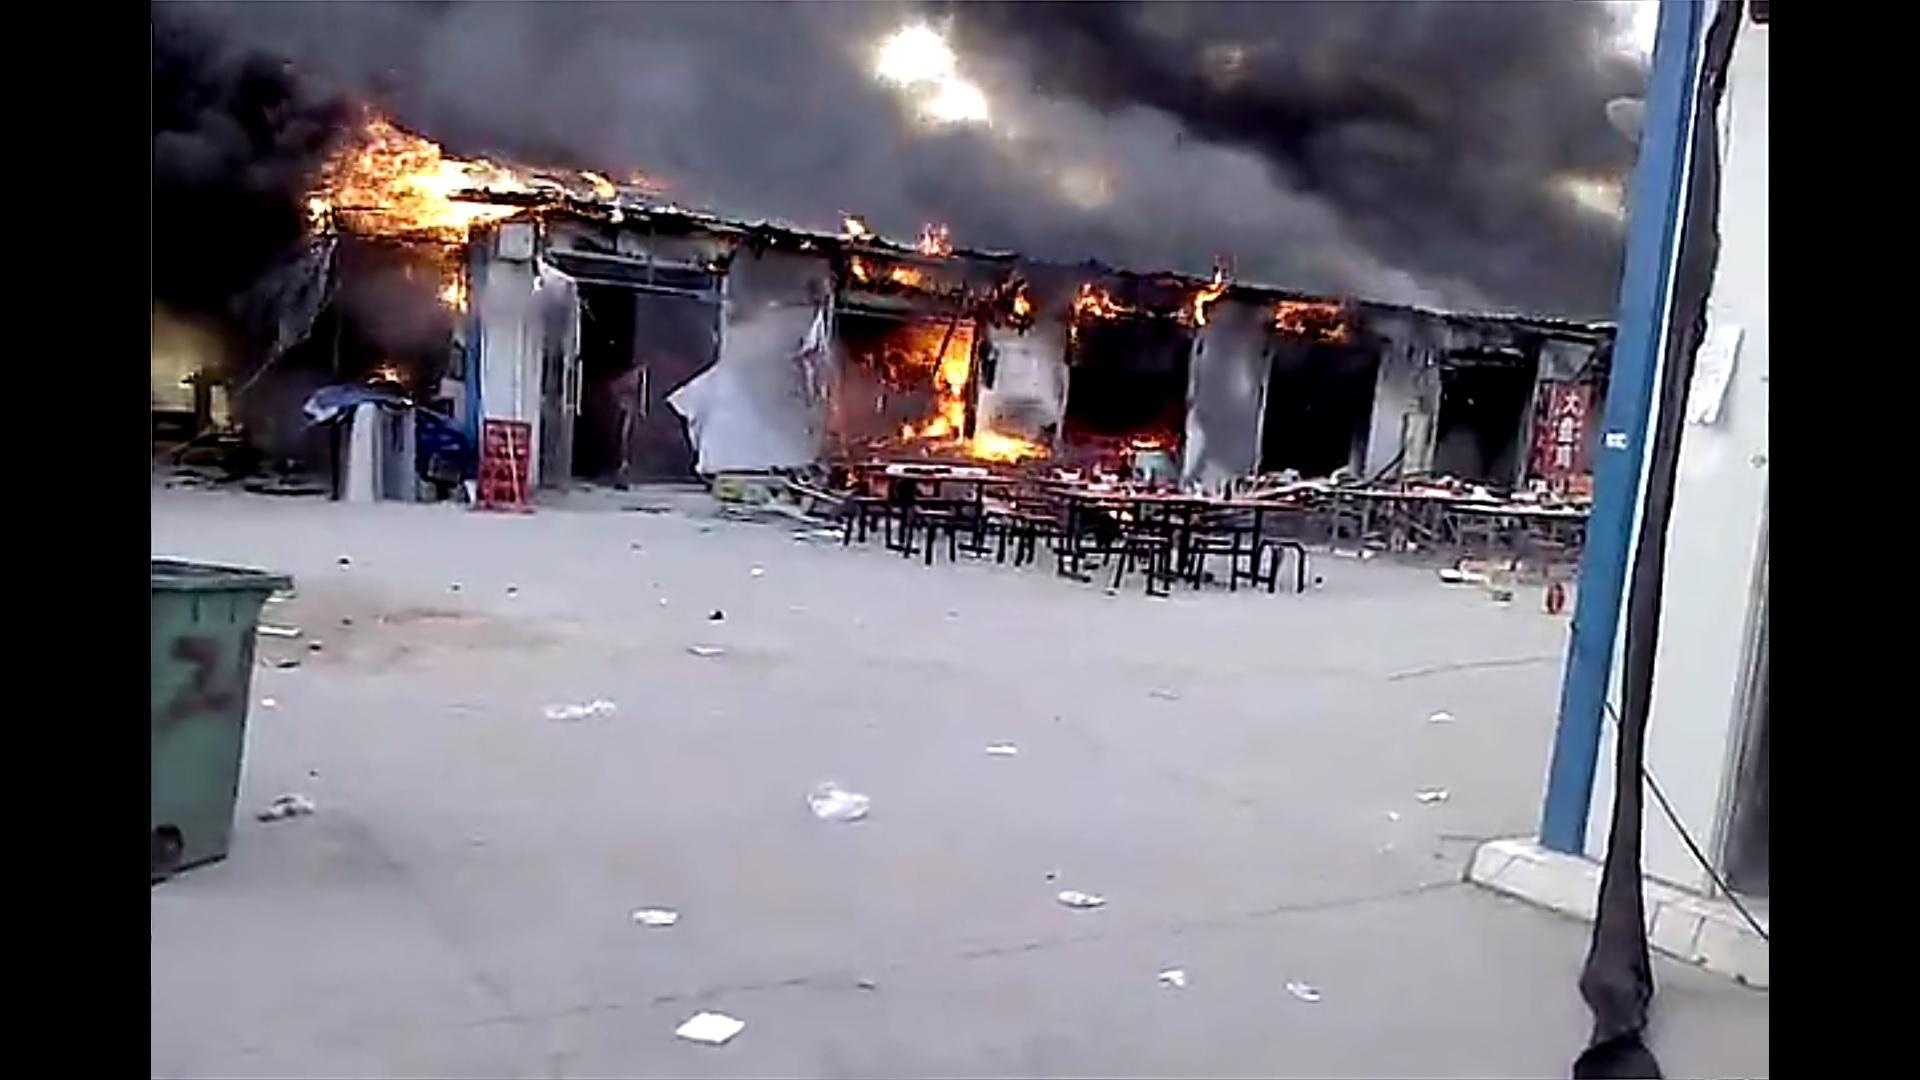fire: (315, 116, 637, 311), (841, 228, 1042, 477), (1269, 290, 1352, 344)
